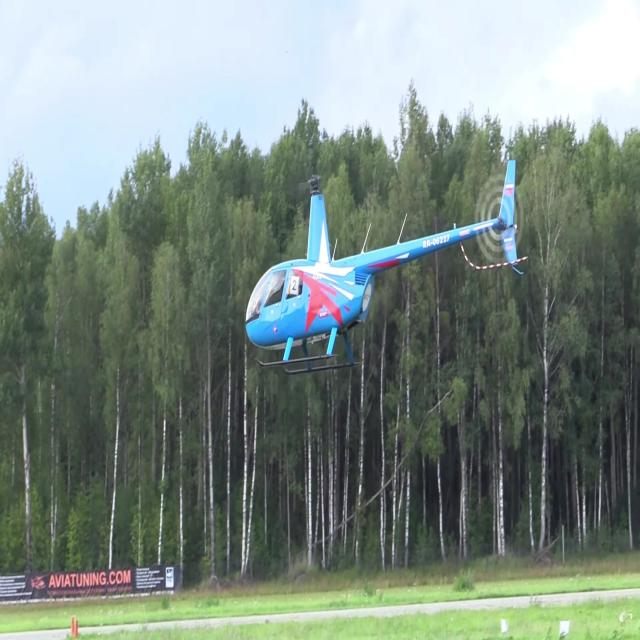CIV_HELO: (244, 158, 524, 377)
